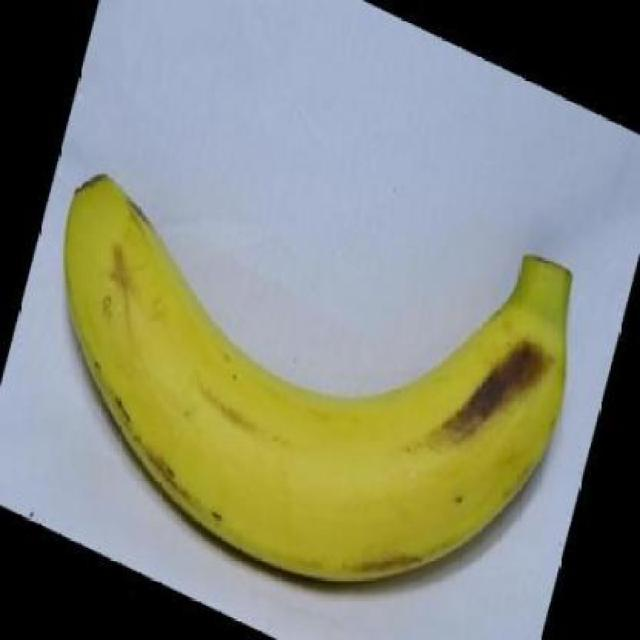ripe: (20, 129, 640, 601)
